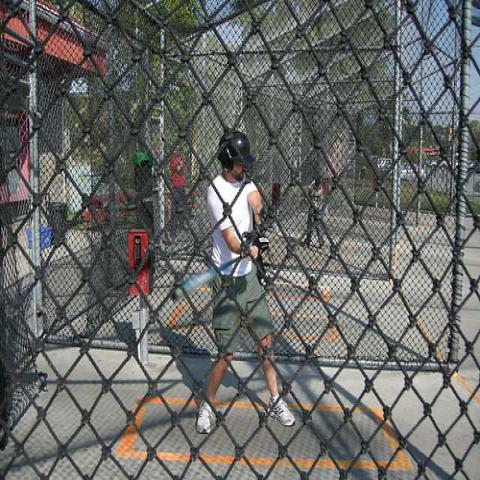car: (400, 163, 418, 179)
